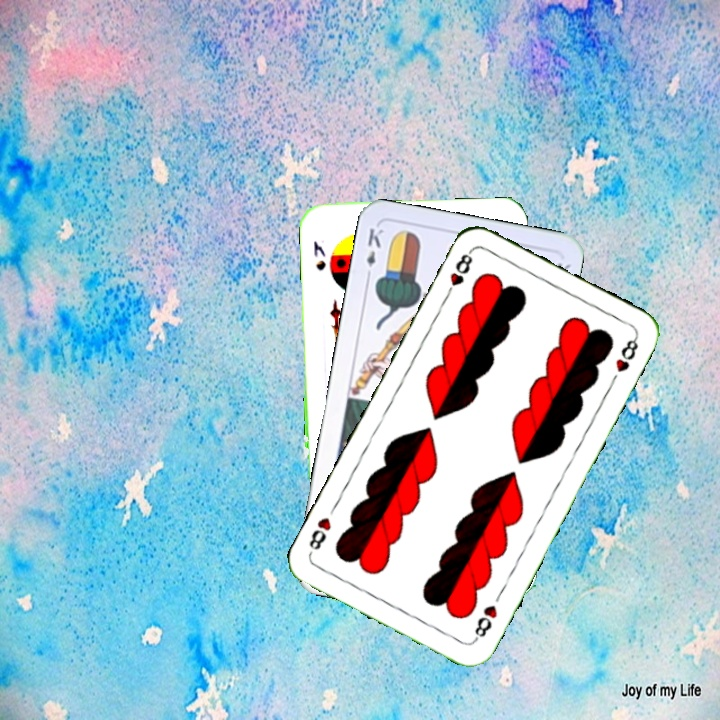EK: (362, 224, 386, 283)
H8: (441, 246, 476, 301), (469, 600, 500, 644)
SK: (309, 237, 328, 273)
